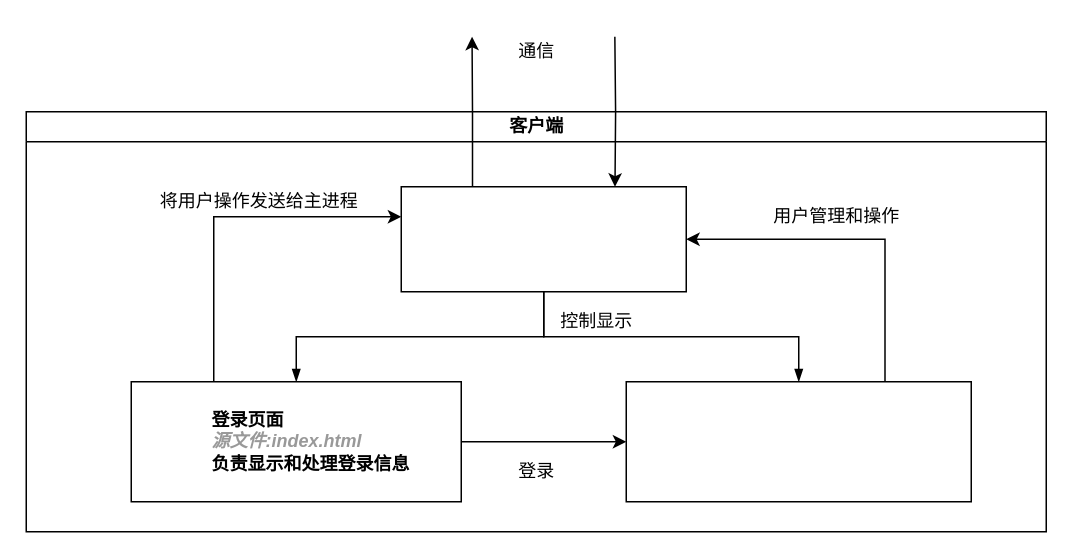
Image size: 1073x558. Some labels were removed from this diagram. Each missing label, with the centre of its shape:
"主进程 源文件:main.js 负责后台操作" goes at pixel 543 238.
"主页面 源文件: main.html 负责显示登录后的操作" goes at pixel 798 441.
